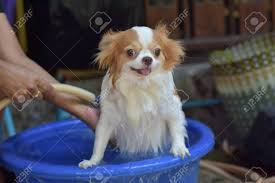chihuahua: (73, 15, 201, 167)
